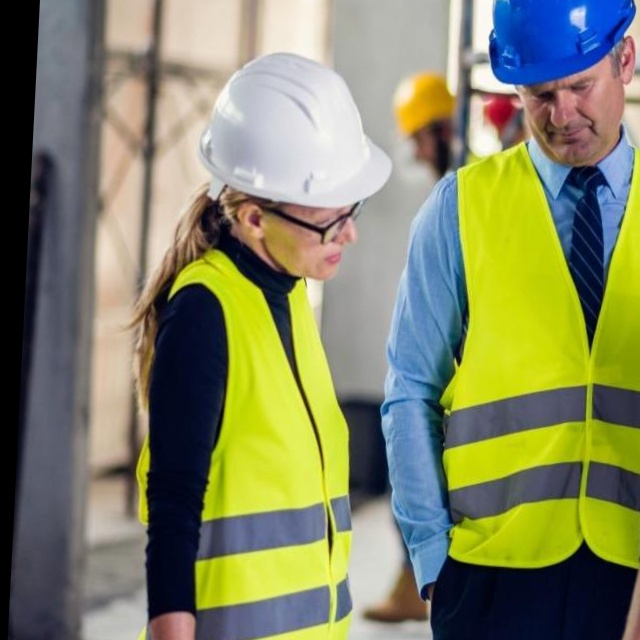Con_Casco: (192, 48, 394, 276), (480, 0, 640, 163)
Con_Chaleco: (129, 260, 373, 640), (431, 135, 640, 576)
